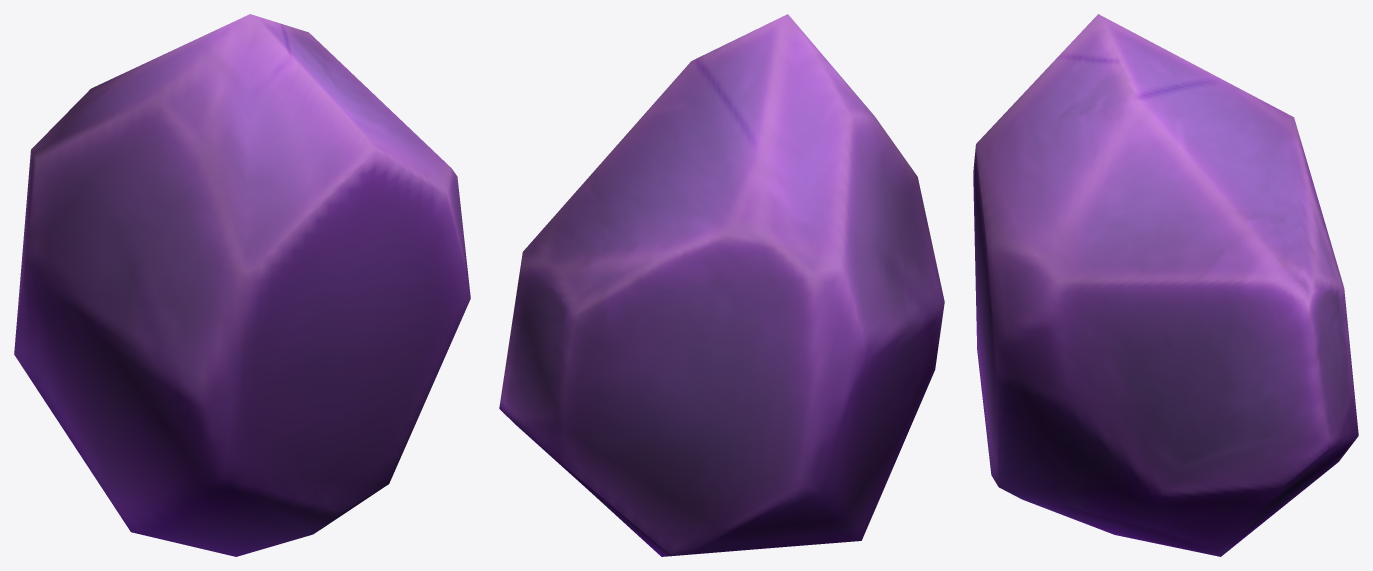
File: SM_Gem_Amethyst_Piece_001.fbx
3 views of the same model, side by side, from view 1: azimuth 30°, elevation 25°; view 2: azimuth 150°, elevation 25°; view 3: azimuth 270°, elevation 25° (orthographic). The views are drawn at different scales.
Visible parts, largest first — view 1: SM_Gem_Amethyst_Piece_001; view 2: SM_Gem_Amethyst_Piece_001; view 3: SM_Gem_Amethyst_Piece_001.
Boxes of the visible parts, x1,y1,x2,y2 form: SM_Gem_Amethyst_Piece_001: (14,14,470,556); SM_Gem_Amethyst_Piece_001: (499,14,944,556); SM_Gem_Amethyst_Piece_001: (973,14,1358,556).
Bounding box in the file's own units: 12.53 × 18.83 × 12.58.
